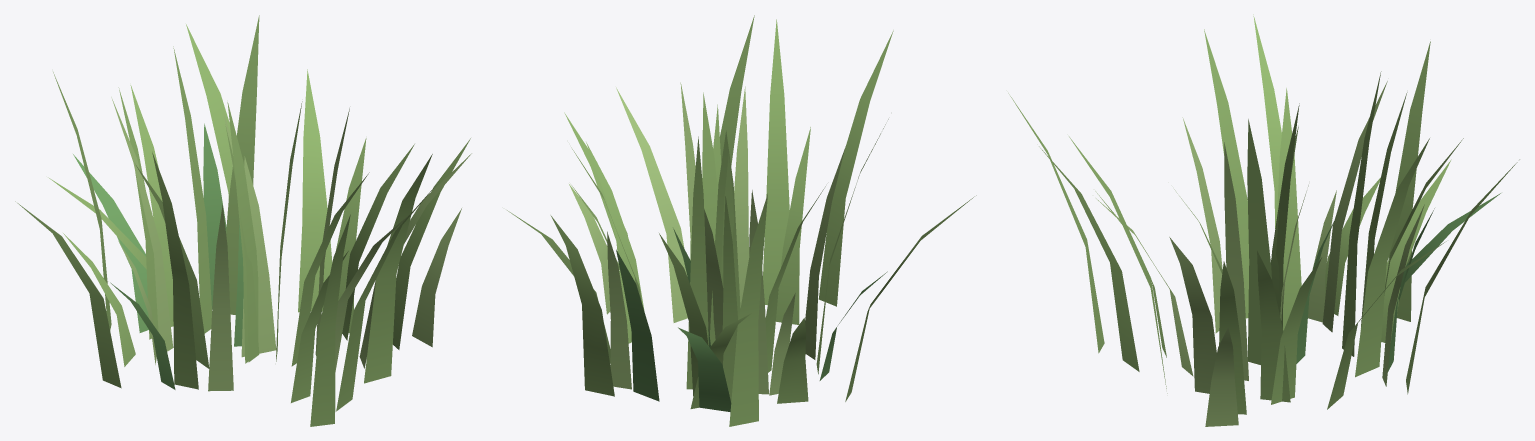
Rendered from grass_tuft.glb.
3 renders of one model, left to right at view 1: azimuth 30°, elevation 25°; view 2: azimuth 150°, elevation 25°; view 3: azimuth 270°, elevation 25°, orthographic. The views are drawn at different scales.
Visible parts, largest first — view 1: grass_tuft_body; view 2: grass_tuft_body; view 3: grass_tuft_body.
Boxes of the visible parts, x1,y1,x2,y2 form: grass_tuft_body: (15,15,471,426); grass_tuft_body: (507,15,976,426); grass_tuft_body: (1008,14,1519,426).
Size of the model in its own units: 1.06 by 0.6345 by 1.08.
